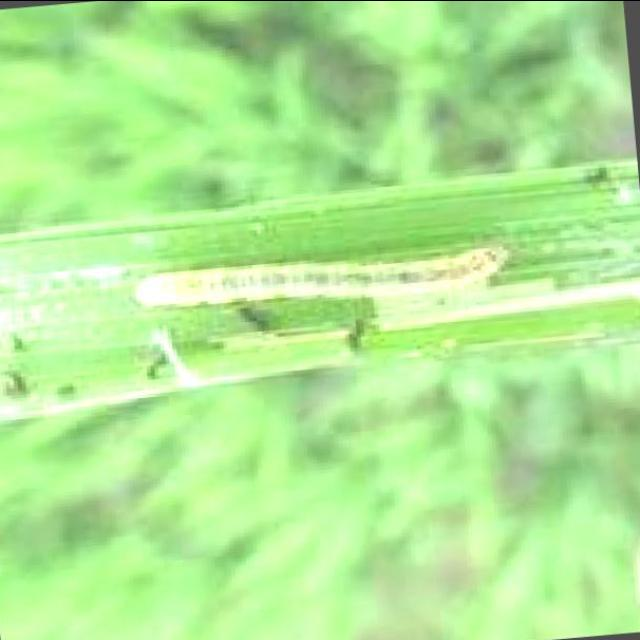leaf folder: (135, 247, 507, 305)
